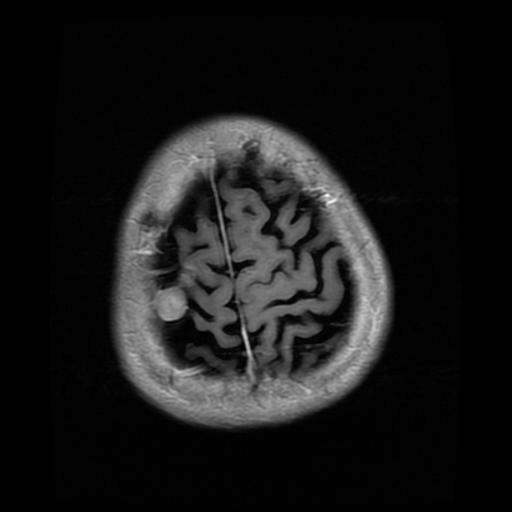Tumour-Meningioma: (150, 275, 198, 339)
